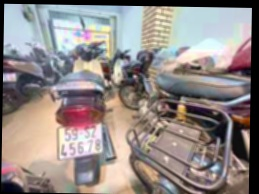Bien-so: (63, 116, 110, 157), (7, 70, 19, 79)
